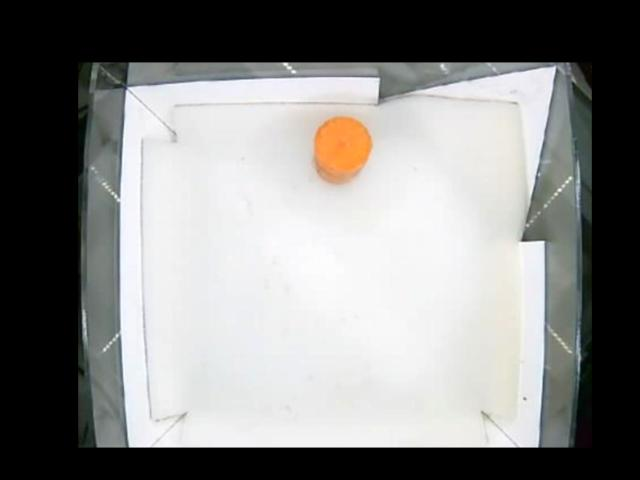Carrot: (314, 117, 371, 186)
